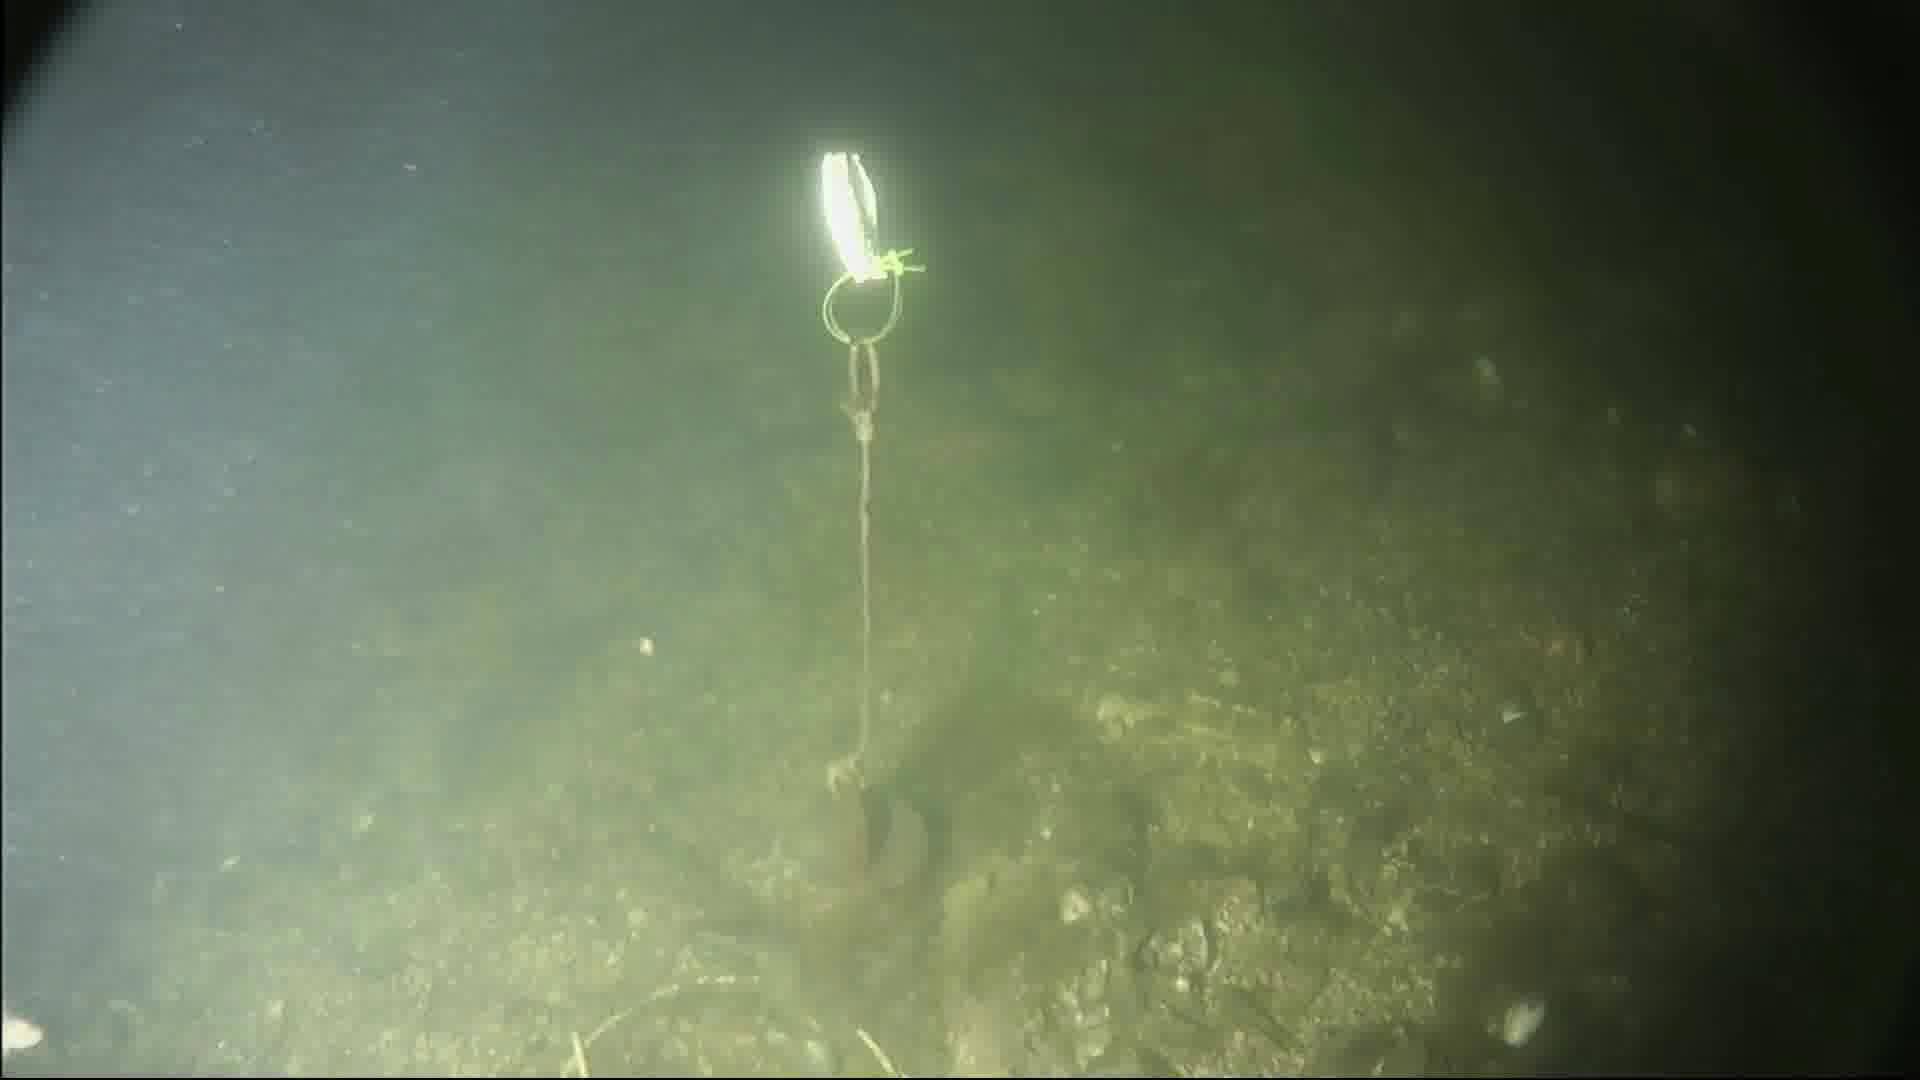small_fish: (1, 1003, 45, 1059)
